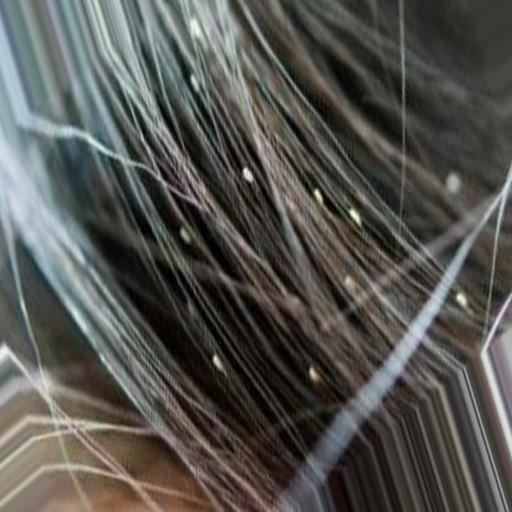Head_Lice: (306, 185, 334, 214), (238, 155, 261, 189), (450, 290, 476, 317), (172, 222, 195, 248), (336, 273, 361, 296), (208, 350, 227, 377), (185, 76, 207, 98), (306, 368, 328, 388), (346, 208, 364, 226)
